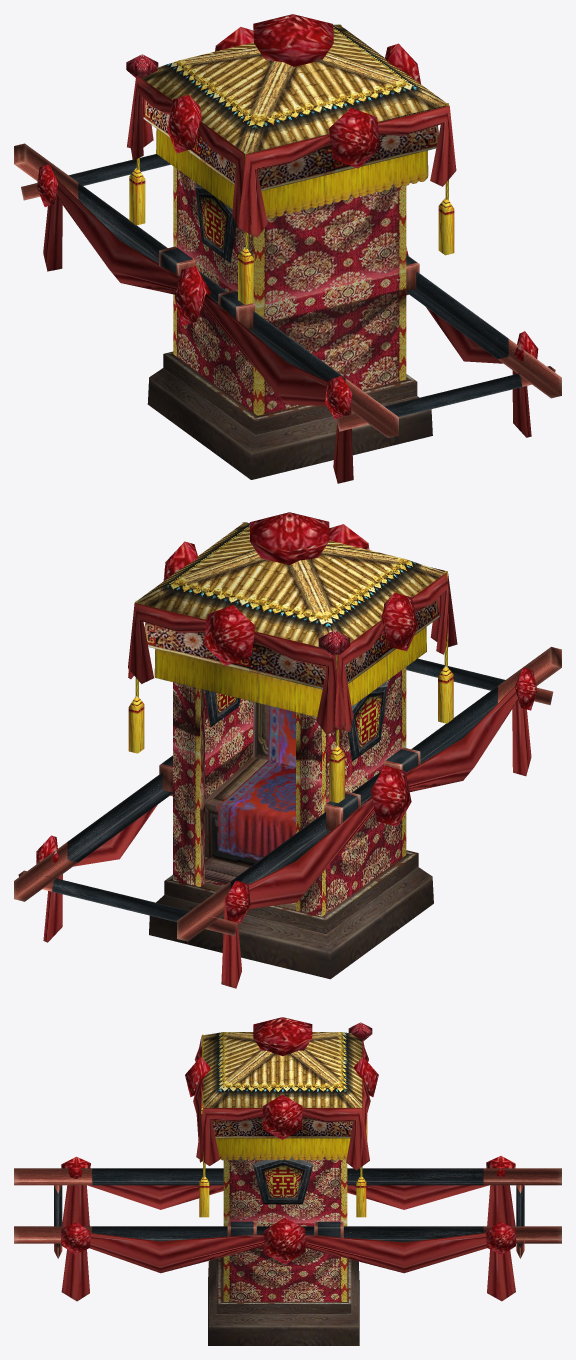
The picture shows the model from 3 angles, top to bottom: view 1: azimuth 30°, elevation 25°; view 2: azimuth 150°, elevation 25°; view 3: azimuth 270°, elevation 25°; orthographic projection. The views are drawn at different scales.
Parts seen in each view (by area): view 1: Mesh_0031.rip_noesis_meshnode_0000; view 2: Mesh_0031.rip_noesis_meshnode_0000; view 3: Mesh_0031.rip_noesis_meshnode_0000.
Part boxes in pixels (left/top/right/bottom): Mesh_0031.rip_noesis_meshnode_0000: left=14, top=14, right=561, bottom=483; Mesh_0031.rip_noesis_meshnode_0000: left=14, top=512, right=561, bottom=988; Mesh_0031.rip_noesis_meshnode_0000: left=14, top=1017, right=561, bottom=1345.
Size of the model in its own units: 1.32 by 2.05 by 3.44.
Materials: 1 (1 with a texture image).
